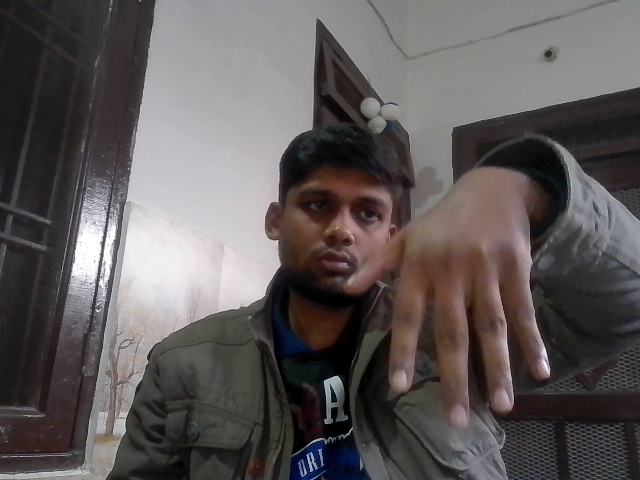HowAreYou: (347, 164, 573, 425)
